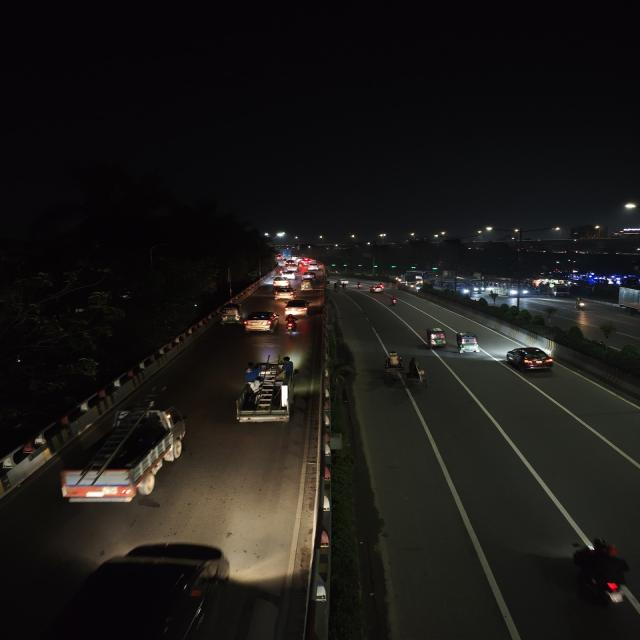bus: (492, 281, 531, 298), (456, 278, 485, 294)
car: (26, 537, 242, 640), (504, 344, 557, 374), (243, 310, 278, 334), (283, 298, 312, 316), (274, 286, 298, 300), (271, 276, 291, 288), (369, 284, 385, 294), (284, 271, 298, 279)
cng: (454, 330, 484, 356), (424, 326, 449, 348), (219, 304, 242, 326), (300, 278, 314, 292)
motorcycle: (565, 533, 640, 625), (284, 314, 301, 339), (574, 297, 588, 312), (388, 294, 400, 307), (355, 282, 364, 290)
pickup_van: (54, 397, 192, 509), (234, 352, 302, 427)
rickshaw: (398, 364, 432, 389), (379, 357, 407, 381)
truck: (616, 283, 640, 317), (550, 284, 570, 299)
